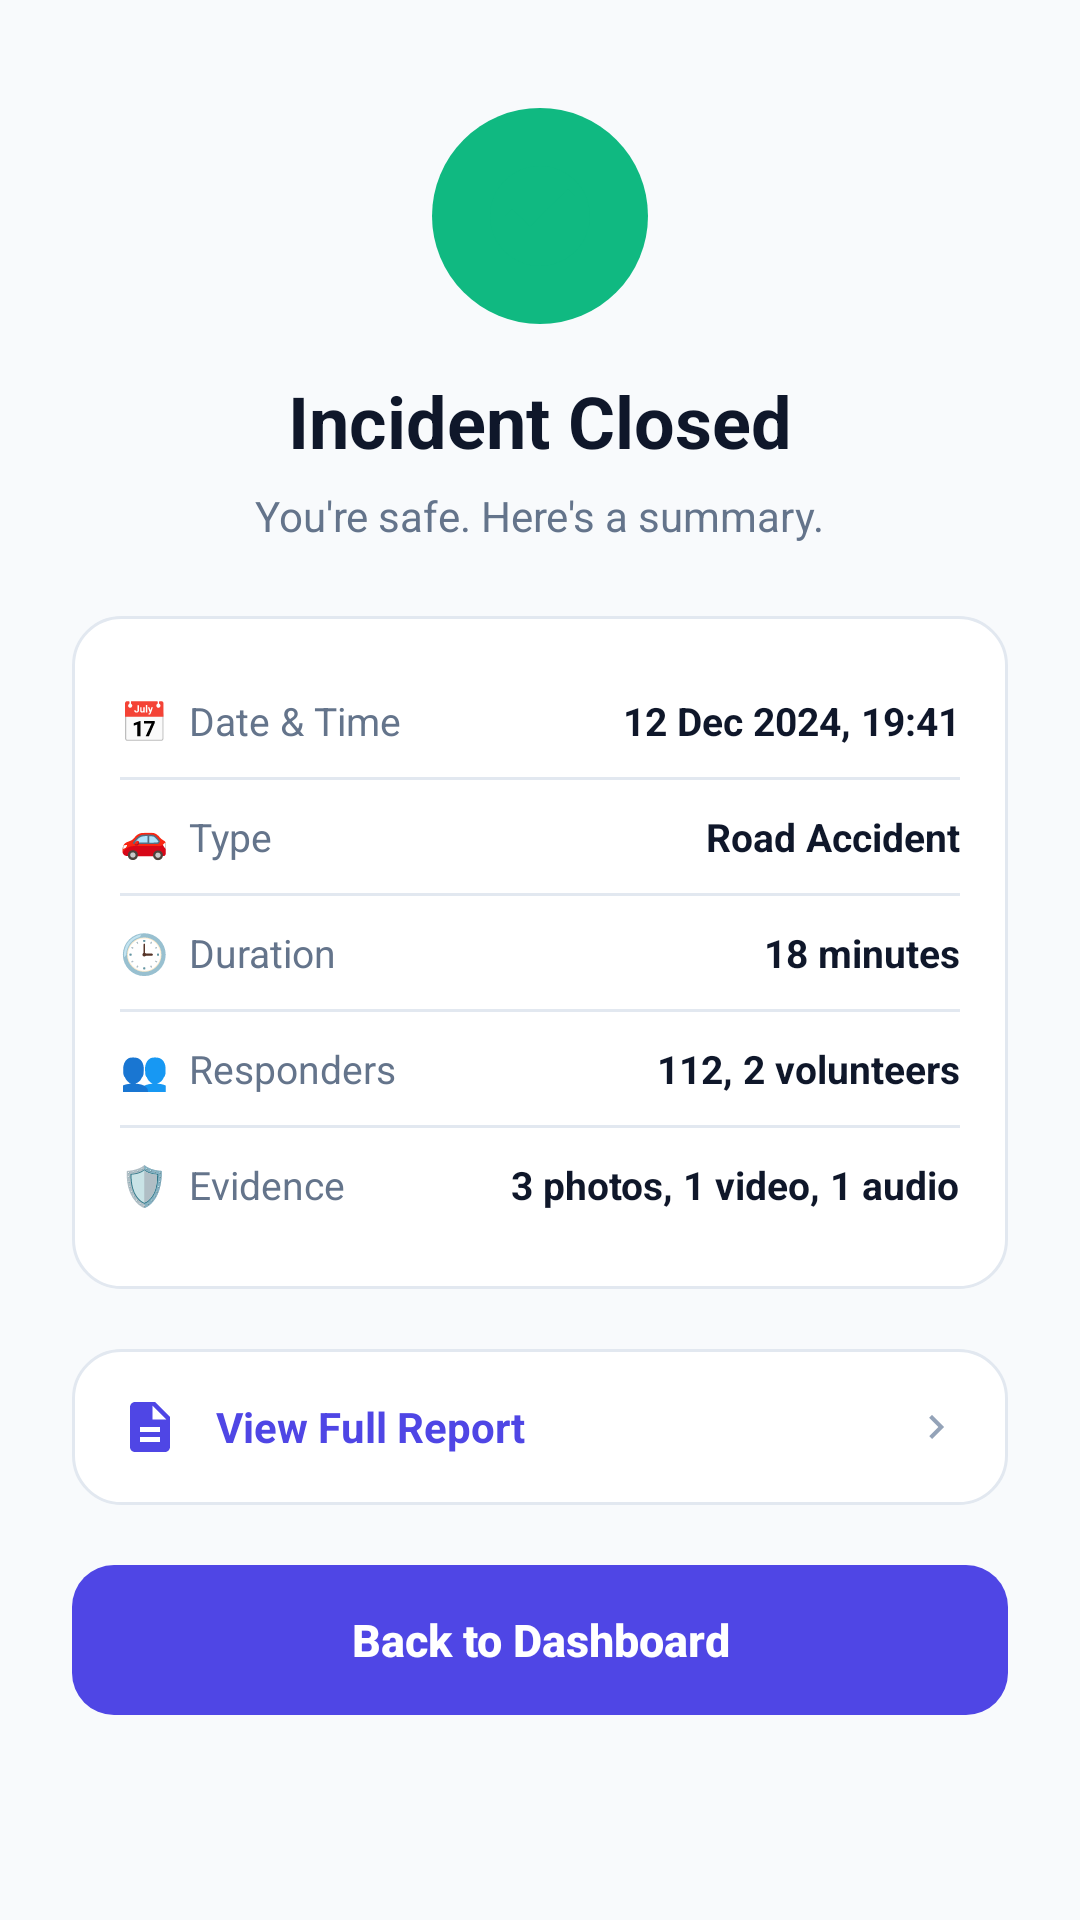

Icon bounding boxes for this 1080 × 1920 phone screenshot, format (x1, y1, x2, y2):
chevron right: (929, 1415, 944, 1439)
file document: (130, 1402, 170, 1452)
